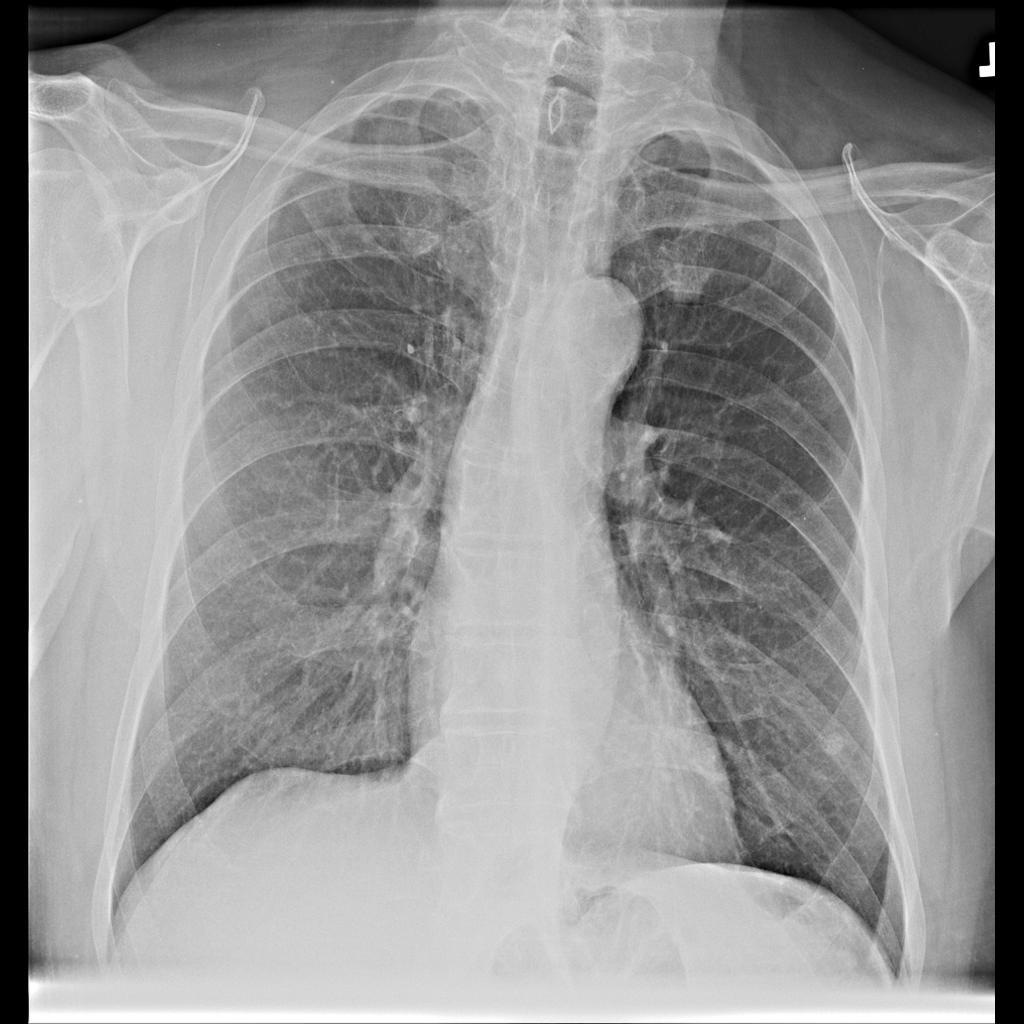Nodule: (666, 259, 711, 290), (836, 734, 837, 760)
